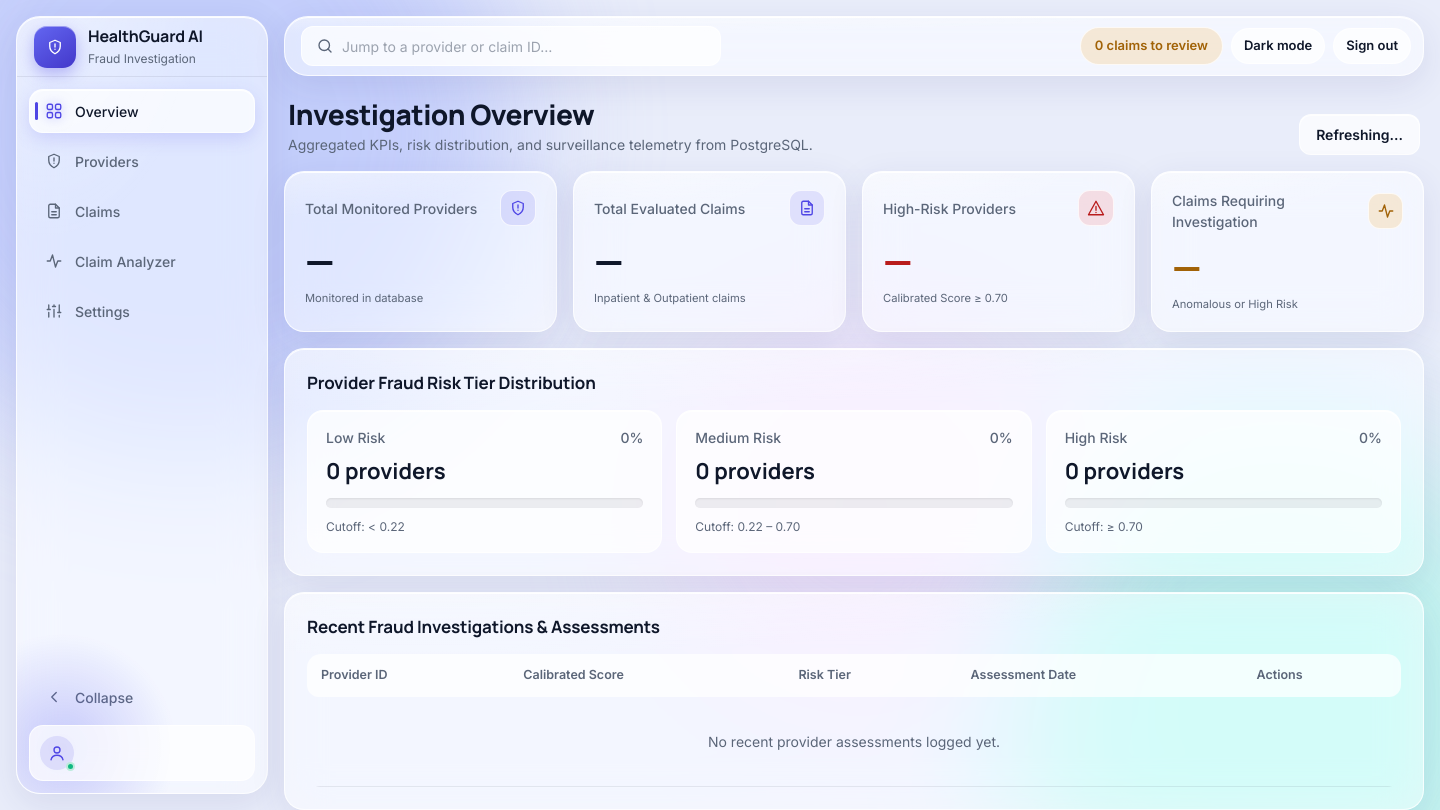
Scenario: HealthGuard AI Frontend Integration Tests › Claim Fraud Analyzer Probability & Risk Tier Validation › preserves Monthly Reimbursement and Claim Activity charts while removing unneeded audit sections
Click the button "Claim Analyzer".
click(142, 261)  # box [29,239,255,283]
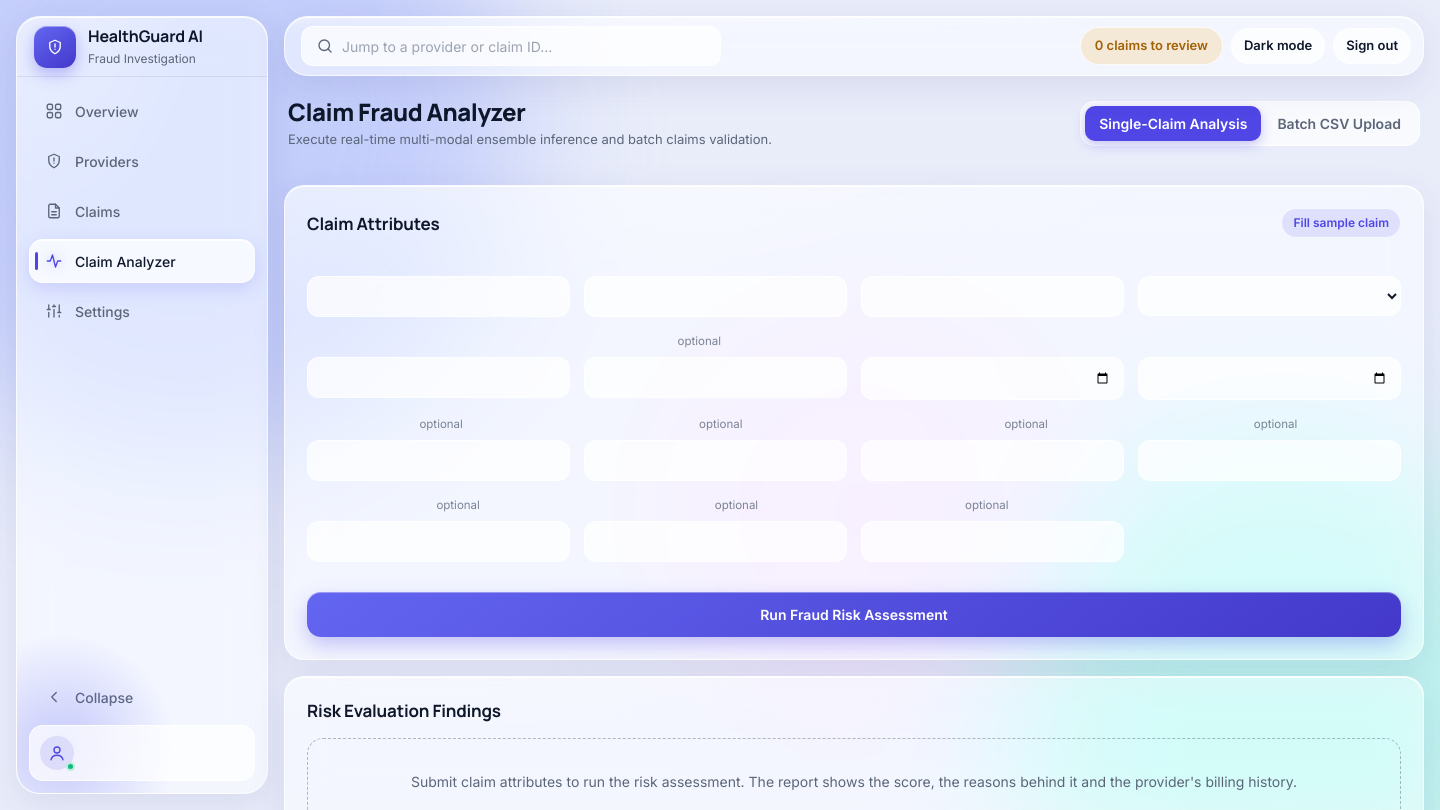
// Run analysis
Click the button "Run Fraud Risk Assessment".
click(854, 615)  # box [307,592,1401,637]
(page scrolled)
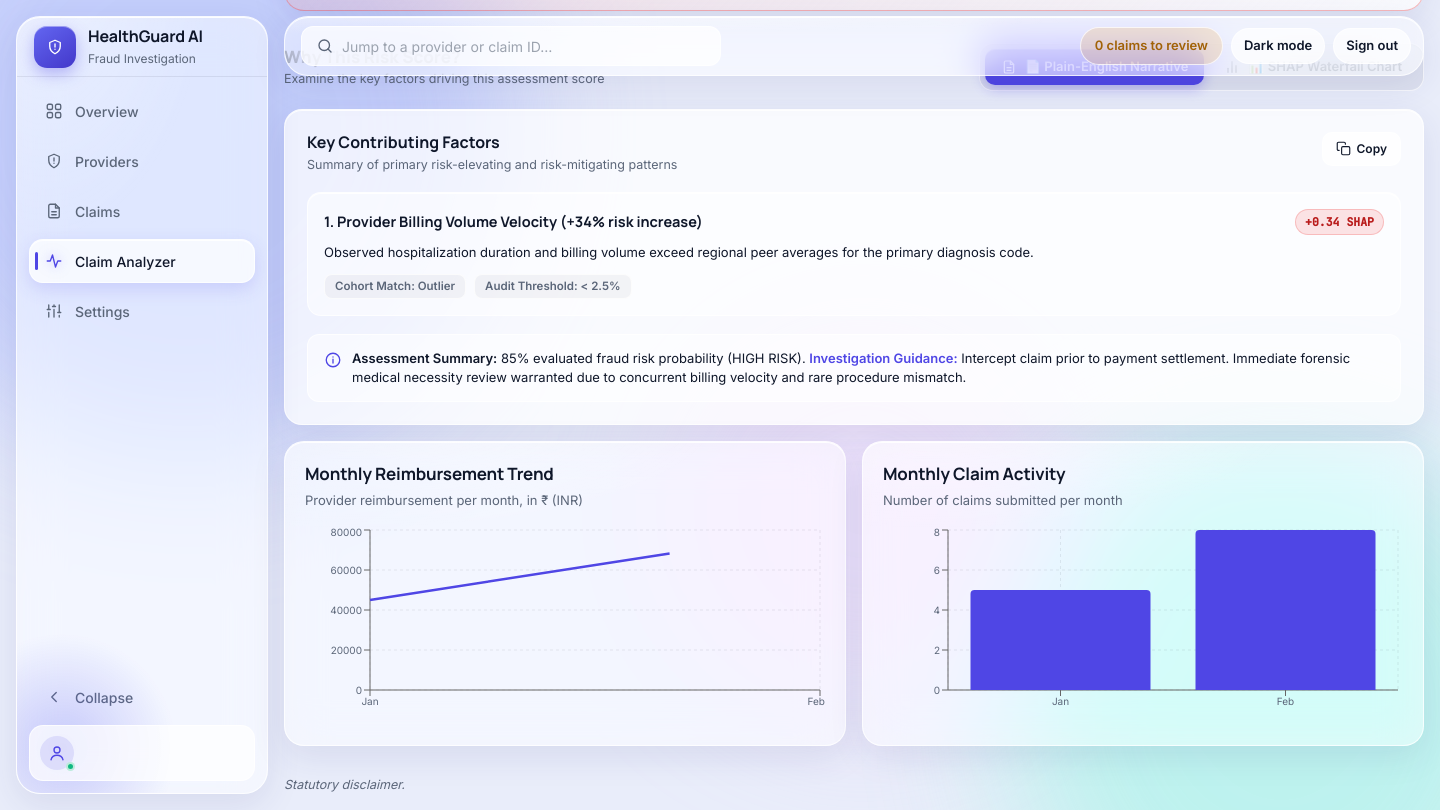
Check: the heading "Monthly Reimbursement Trend" is shown, box [305,462,554,485]
Check: the heading "Monthly Claim Activity" is shown, box [883,462,1065,485]
